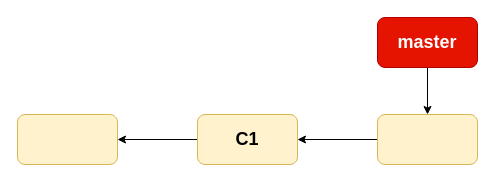
Some shapes in this 495 by 182 pixel diagram are drawn without their labels. The box of each missing label's shape, as (x1, y1, x2, y2) in pixels:
C0: (16, 114, 118, 164)
C2: (376, 114, 478, 164)
